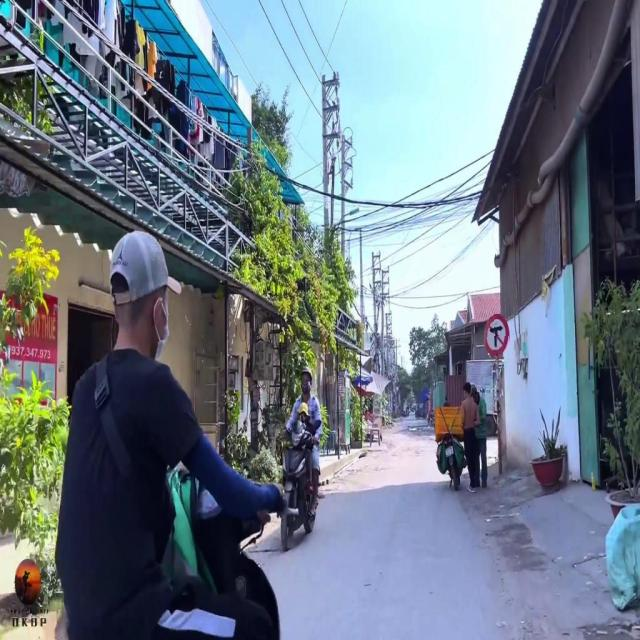cam_re_trai_va_phai: (484, 314, 510, 358)
